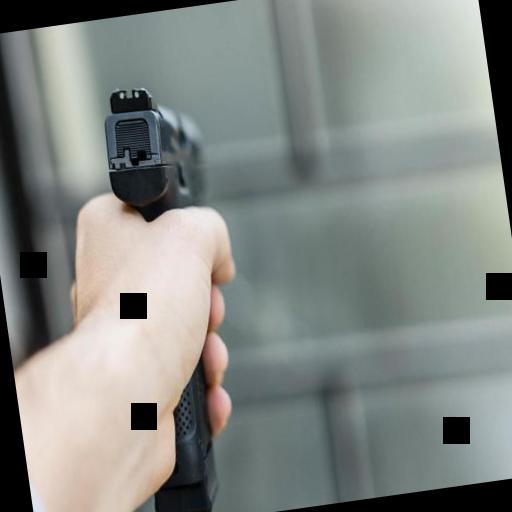Handgun: (89, 74, 254, 512)
